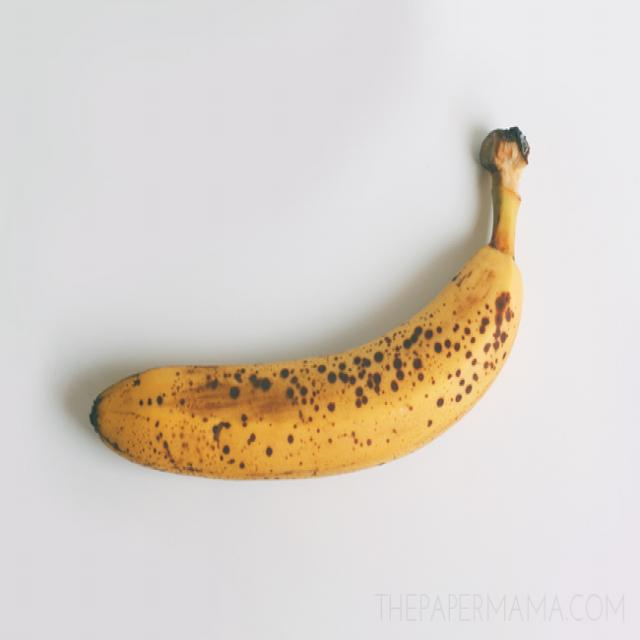Banana: (84, 126, 531, 478)
